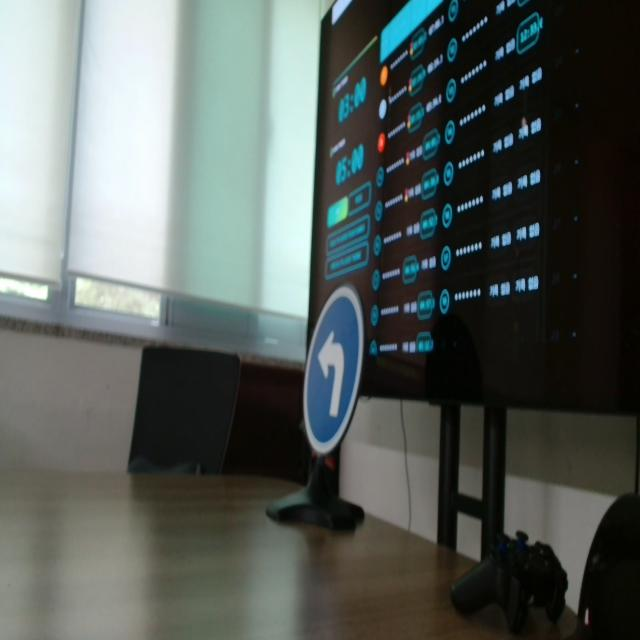left_direction: (298, 268, 378, 480)
